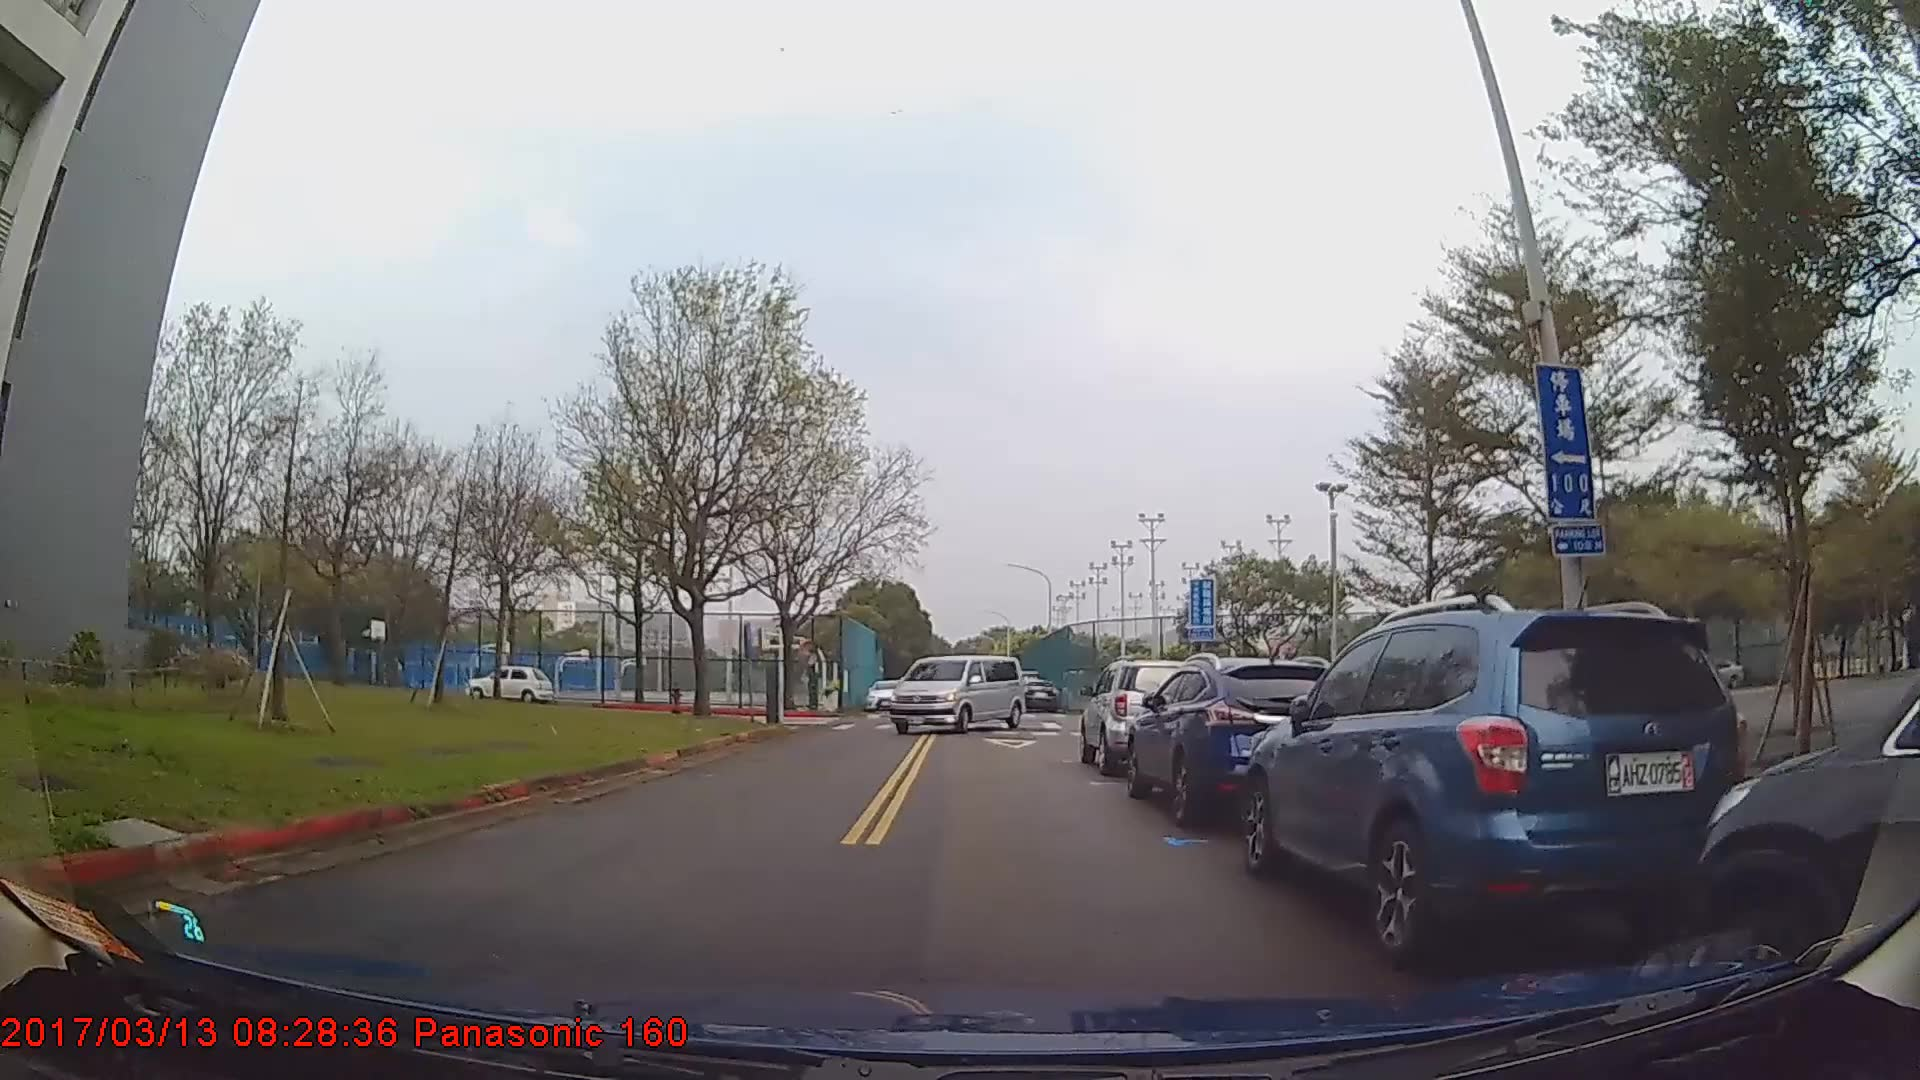vehicle: (1233, 608, 1755, 963), (1681, 675, 1920, 1017), (1124, 655, 1345, 827), (1080, 658, 1201, 774), (884, 651, 1025, 737), (468, 662, 553, 703), (1014, 675, 1060, 711), (864, 676, 905, 709)
